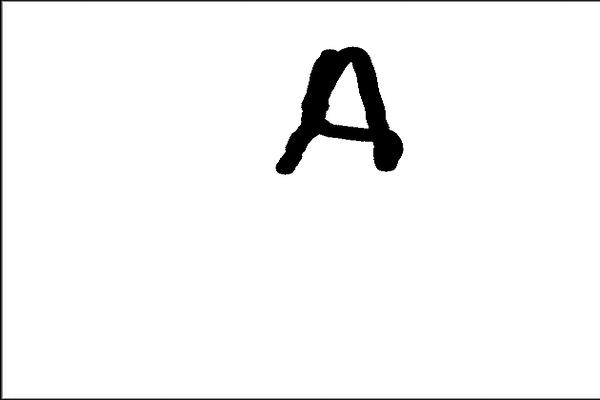A: (270, 30, 411, 184)
